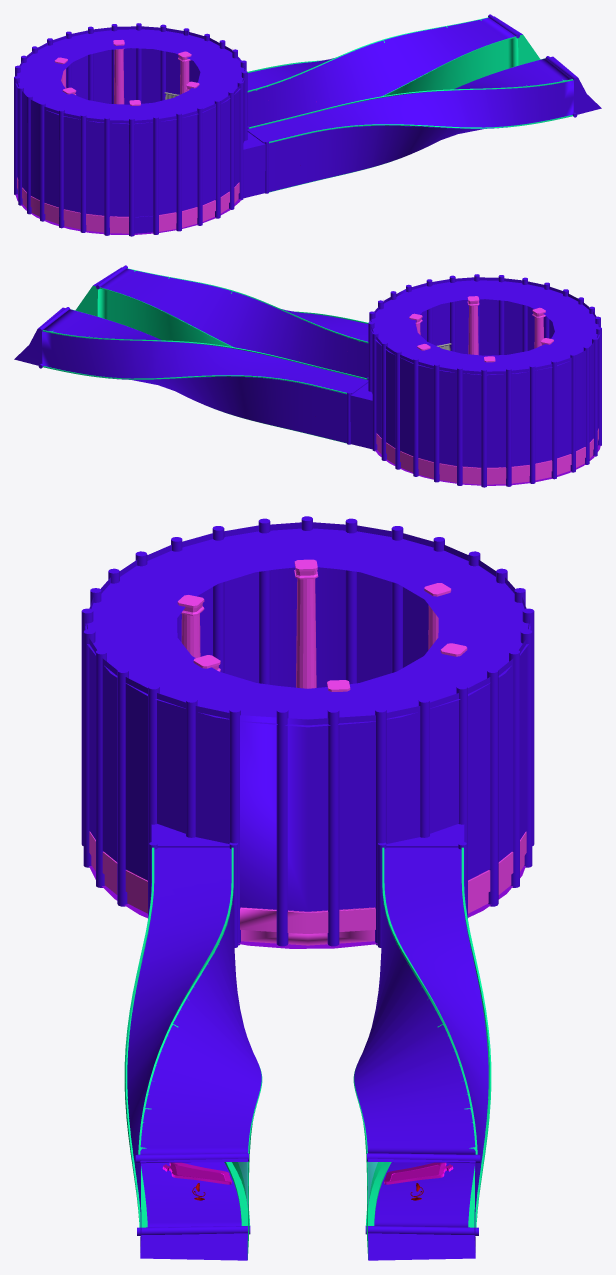
The model's file is SM_Architecture (2).fbx.
The picture shows the model from 3 angles, top to bottom: view 1: azimuth 30°, elevation 25°; view 2: azimuth 150°, elevation 25°; view 3: azimuth 270°, elevation 25°; orthographic projection. The views are drawn at different scales.
Parts seen in each view (by area): view 1: polySurface1726; view 2: polySurface1726; view 3: polySurface1726.
Part boxes in pixels (box(x1,y1,x2,y2)): polySurface1726: box(14, 14, 601, 236); polySurface1726: box(14, 265, 601, 487); polySurface1726: box(81, 516, 534, 1260).
Bounding box in the file's own units: 4546 × 1016 × 1669.
